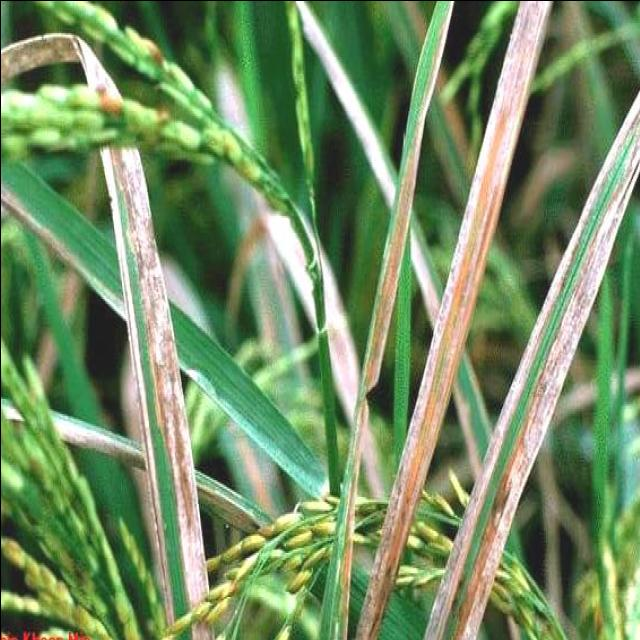Bacterial_Leaf_Blight: (358, 36, 618, 596), (68, 44, 210, 620)
